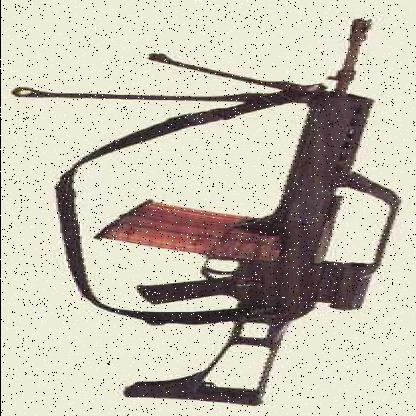rifle: (103, 17, 410, 408)
